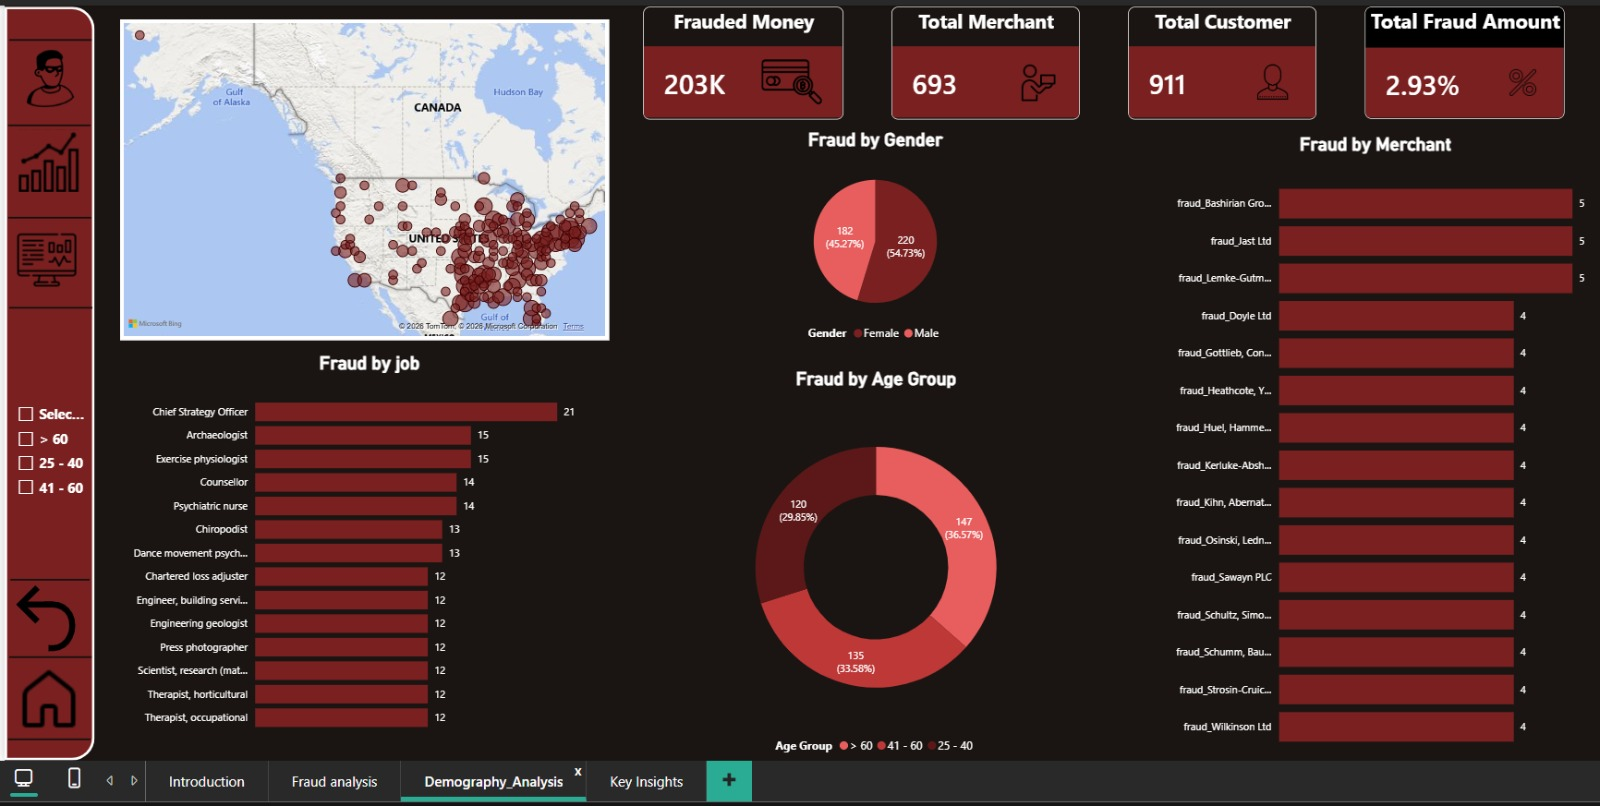

The page's visual inventory and layout, read from the dashboard file:
{"tool":"powerbi","page":{"name":"Demography_Analysis","canvas":[1900,900],"ordinal":2},"visuals":[{"type":"barChart","title":"Fraud by Merchant","fields":{"Category":["dim_merchant_1_.merchant"],"Y":["Sum(fact_transactions_1_.fruad_num)"]},"box":[1377.4,151.9,509.2,747.4],"z":0},{"type":"clusteredBarChart","title":"Fraud by job","fields":{"Category":["dim_customer_1_.job"],"Y":["Sum(fact_transactions_1_.fruad_num)"]},"box":[138,414,594,462],"z":1000},{"type":"cardVisual","title":"Frauded Money","fields":{"Data":["fact_transactions_1_.Fraud Amount"]},"box":[760.4,0.9,238,134],"z":2000},{"type":"cardVisual","title":"Total Fraud Amount","fields":{"Data":["fact_transactions_1_.Amount fraud per"]},"box":[1619,0.9,237.7,134],"z":3000},{"type":"cardVisual","title":"Total Customer","fields":{"Data":["CountNonNull(dim_customer_1_.customer_key)"]},"box":[1337.5,0.9,224,134],"z":4000},{"type":"cardVisual","title":"Total Merchant","fields":{"Data":["fact_transactions_1_.merchant num"]},"box":[1055.9,0.9,224,134],"z":5000},{"type":"pieChart","title":"Fraud by Gender","fields":{"Category":["dim_customer_1_.Gender"],"Y":["Sum(fact_transactions_1_.fruad_num)"]},"box":[799.1,146.7,476,262],"z":6000},{"type":"shape","box":[0,1.7,107,897.5],"z":7000},{"type":"actionButton","box":[11.7,263.3,95,78.3],"z":8000},{"type":"actionButton","box":[8.6,145,88.5,82],"z":9000},{"type":"actionButton","box":[6.9,776.7,91.8,100],"z":10000},{"type":"actionButton","box":[8.6,41.4,94.7,91.1],"z":11000},{"type":"shape","box":[3.5,226.1,99,51.8],"z":12000},{"type":"shape","box":[5,320,99,79.4],"z":13000},{"type":"shape","box":[5.2,15.5,98,51.8],"z":14000},{"type":"shape","box":[3.5,117.4,98,51.8],"z":15000},{"type":"shape","box":[5.2,737,98,78.6],"z":16000},{"type":"shape","box":[3.5,847.5,98,51.8],"z":17000},{"type":"donutChart","title":"Fraud by Age Group","fields":{"Category":["dim_customer_1_.Age Group"],"Y":["Sum(fact_transactions_1_.fruad_num)"]},"box":[760.5,430.9,554.5,469.1],"z":18000},{"type":"map","fields":{"Size":["Sum(fact_transactions_1_.fruad_num)"],"X":["dim_merchant_1_.merchant_long"],"Y":["dim_merchant_1_.merchant_lat"]},"box":[138,16,582.1,382.1],"z":19000},{"type":"slicer","fields":{"Values":["dim_customer_1_.Age Group"]},"box":[3.5,467.8,98.4,151.9],"z":20000},{"type":"shape","box":[7.1,645.2,94.5,78.4],"z":21000},{"type":"actionButton","box":[0,683.6,99.1,92.9],"z":22000}]}

Visuals, with their boxes on the page's 1900x900 design canvas (x1, y1, x2, y2). These are canvas units, not pixel positions in the 1600x806 screenshot, which may show the page scaled, cropped or inside an application window:
"Fraud by Merchant" barChart: bbox=(1377, 152, 1887, 899)
"Fraud by job" clusteredBarChart: bbox=(138, 414, 732, 876)
"Frauded Money" cardVisual: bbox=(760, 1, 998, 135)
"Total Fraud Amount" cardVisual: bbox=(1619, 1, 1857, 135)
"Total Customer" cardVisual: bbox=(1338, 1, 1562, 135)
"Total Merchant" cardVisual: bbox=(1056, 1, 1280, 135)
"Fraud by Gender" pieChart: bbox=(799, 147, 1275, 409)
shape: bbox=(0, 2, 107, 899)
actionButton: bbox=(12, 263, 107, 342)
actionButton: bbox=(9, 145, 97, 227)
actionButton: bbox=(7, 777, 99, 877)
actionButton: bbox=(9, 41, 103, 132)
shape: bbox=(4, 226, 102, 278)
shape: bbox=(5, 320, 104, 399)
shape: bbox=(5, 16, 103, 67)
shape: bbox=(4, 117, 102, 169)
shape: bbox=(5, 737, 103, 816)
shape: bbox=(4, 848, 102, 899)
"Fraud by Age Group" donutChart: bbox=(760, 431, 1315, 900)
map - Sum(fact_transactions_1_.fruad_num) x dim_merchant_1_.merchant_long: bbox=(138, 16, 720, 398)
slicer - dim_customer_1_.Age Group: bbox=(4, 468, 102, 620)
shape: bbox=(7, 645, 102, 724)
actionButton: bbox=(0, 684, 99, 776)
